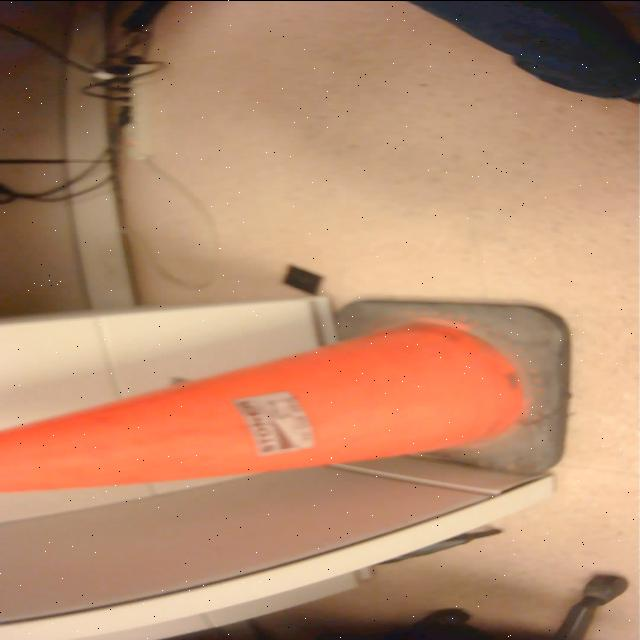traffic cone: (2, 292, 584, 497)
